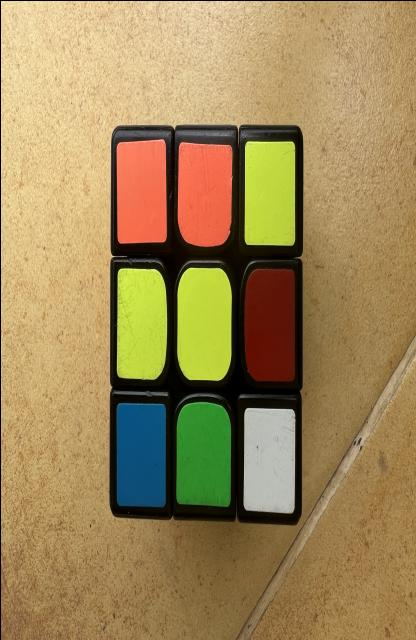Blue: (115, 402, 165, 507)
Green: (176, 402, 230, 507)
Orange: (176, 142, 232, 247), (115, 138, 166, 243)
Red: (243, 268, 294, 380)
White: (242, 407, 294, 513)
Yellow: (176, 267, 231, 380), (115, 267, 167, 378), (244, 140, 294, 245)
